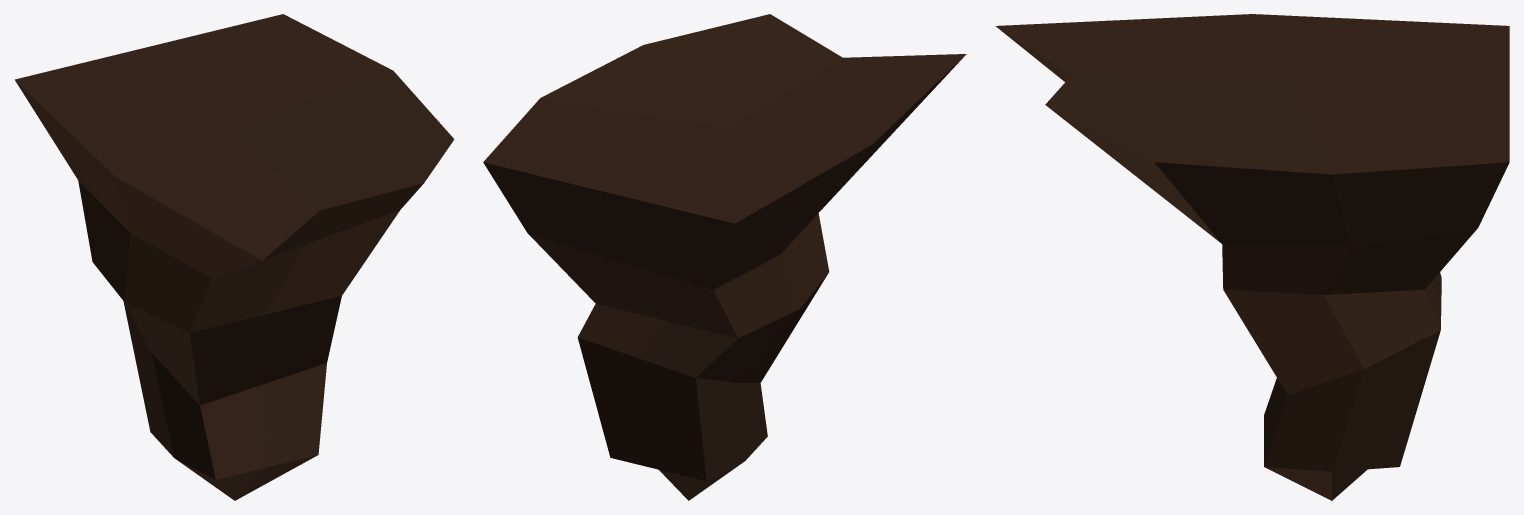
The model's file is ground.obj.
The picture shows the model from 3 angles, left to right: view 1: azimuth 30°, elevation 25°; view 2: azimuth 150°, elevation 25°; view 3: azimuth 270°, elevation 25°; orthographic projection. The views are drawn at different scales.
Visible parts, largest first — view 1: Gound.003; view 2: Gound.003; view 3: Gound.003.
Part boxes in pixels (box(x1,y1,x2,y2)): Gound.003: box(15, 14, 454, 500); Gound.003: box(483, 14, 966, 500); Gound.003: box(995, 14, 1509, 500).
Size of the model in its own units: 12.18 by 14.93 by 16.49.
